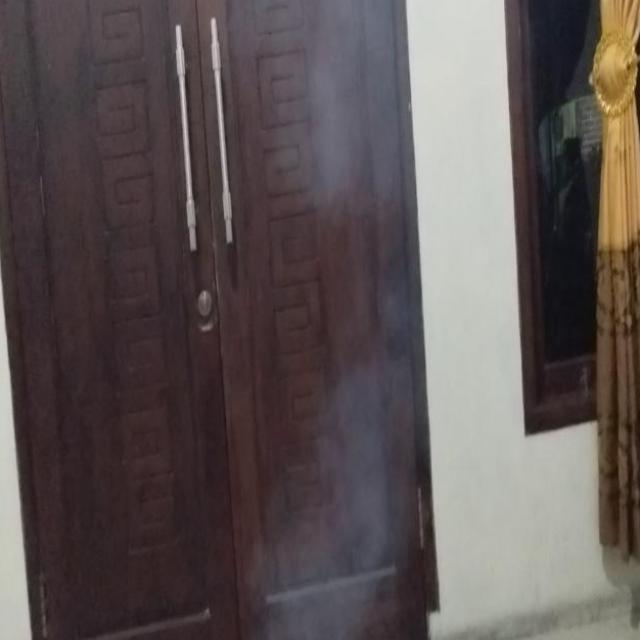fire: (256, 363, 408, 640), (277, 0, 420, 209)
